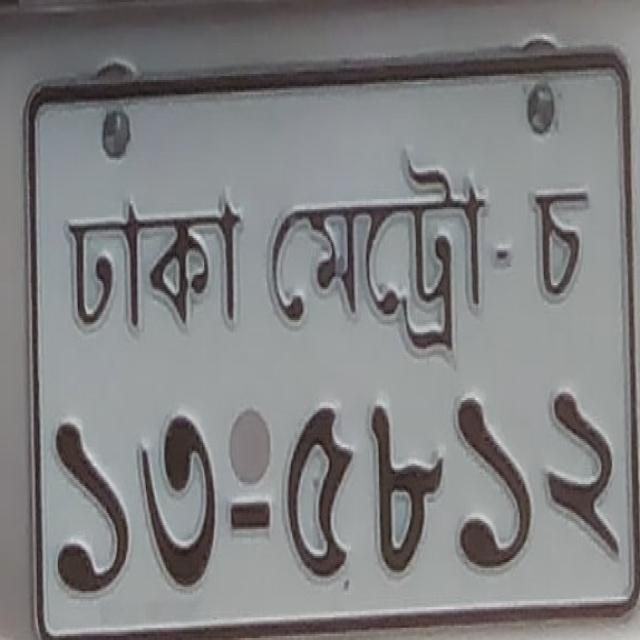numberplate: (20, 37, 639, 638)
